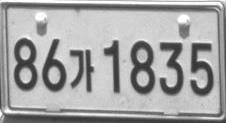1: (100, 39, 126, 93)
3: (158, 41, 185, 96)
5: (189, 42, 214, 97)
6: (41, 37, 67, 92)
8: (129, 40, 156, 94), (12, 36, 38, 91)
가: (69, 48, 94, 92)
